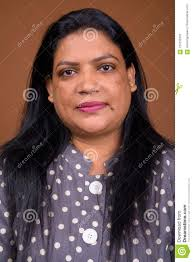indian_female: (25, 7, 166, 143)
